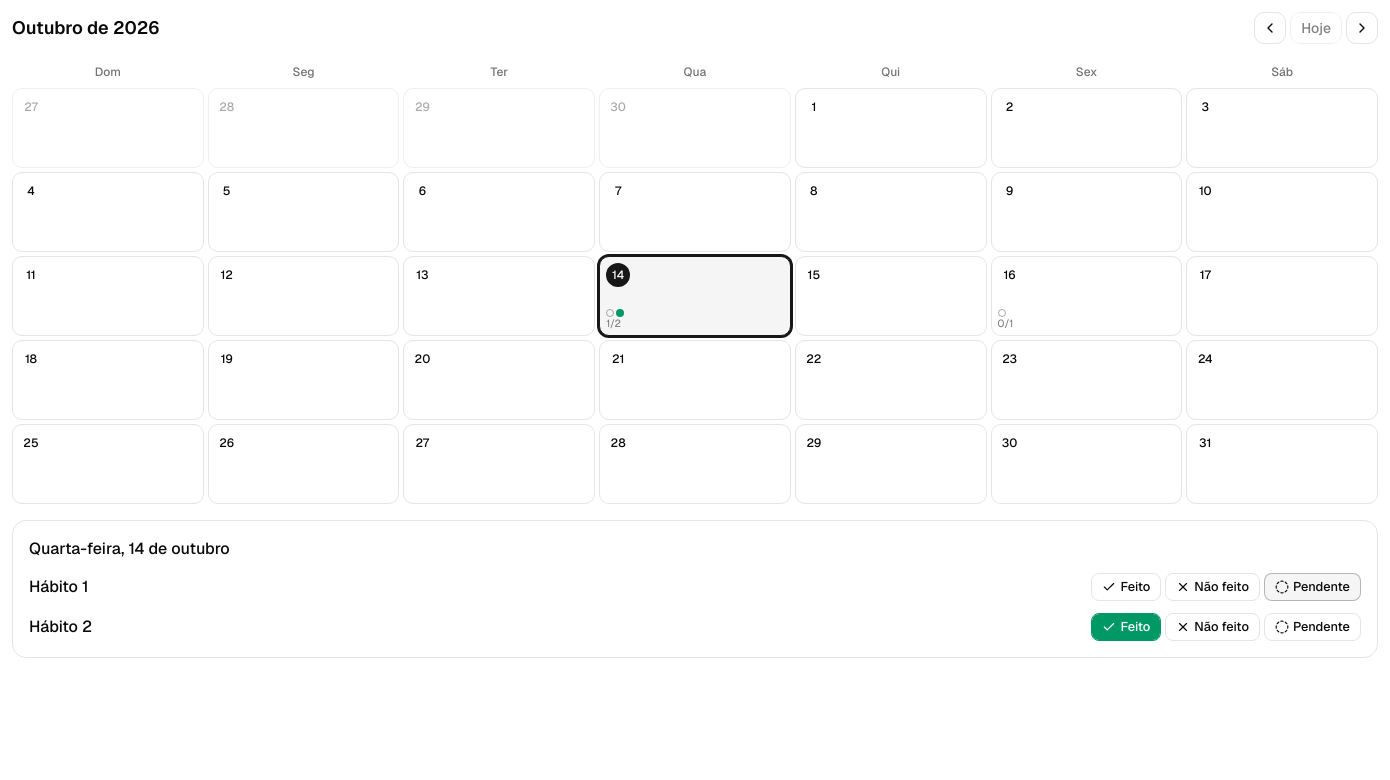
Test case: HabitCalendar › selecting a day shows its habits; future days are disabled with an explanation
This screenshot has width=1390, height=780.
Click the button named "16 de outubro".
click(1086, 296)  # box top-left (991, 256), bottom-right (1182, 336)
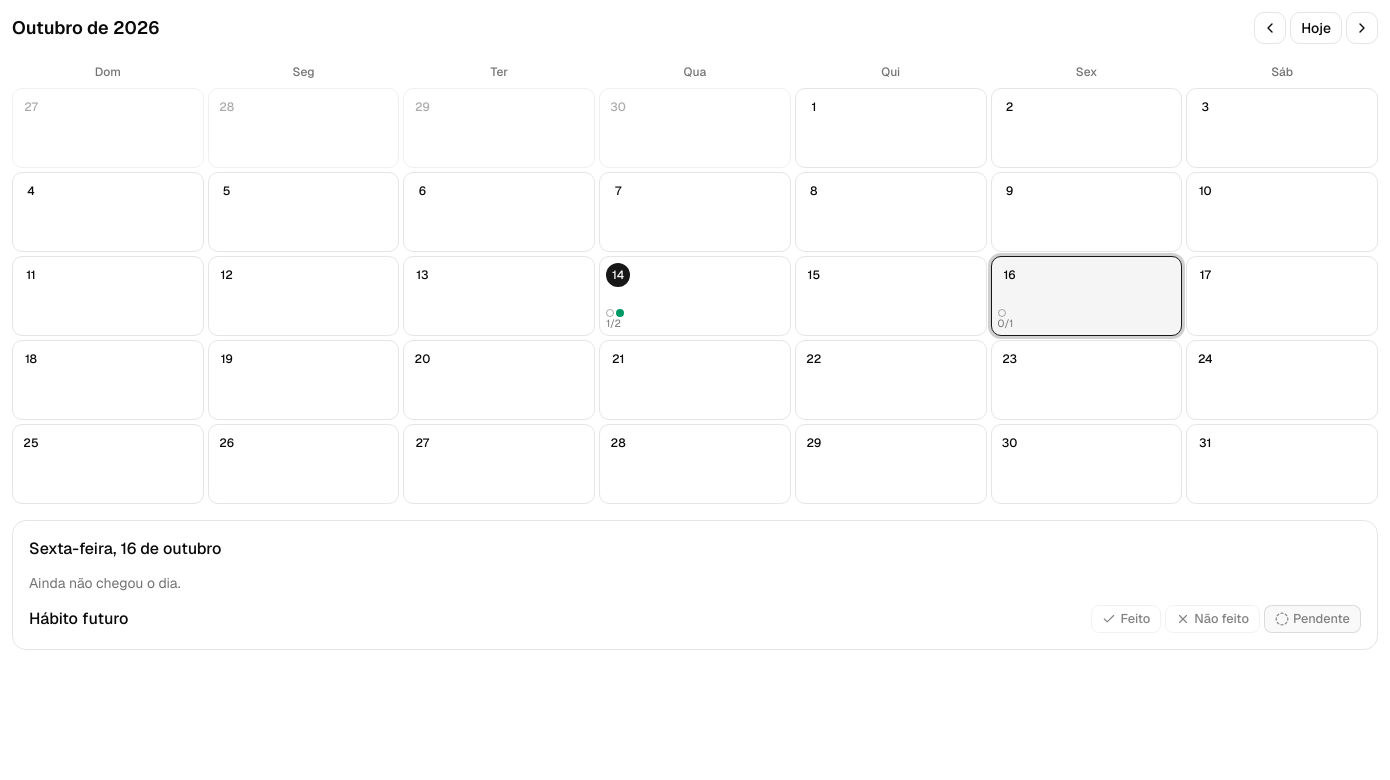
Expected: the heading "sexta-feira, 16 de outubro" is shown, top-left (29, 538), bottom-right (222, 559)
Expected: the text "Hábito futuro" is shown, top-left (29, 608), bottom-right (128, 629)
Expected: the button "Feito" is disabled, top-left (1092, 605), bottom-right (1161, 633)
